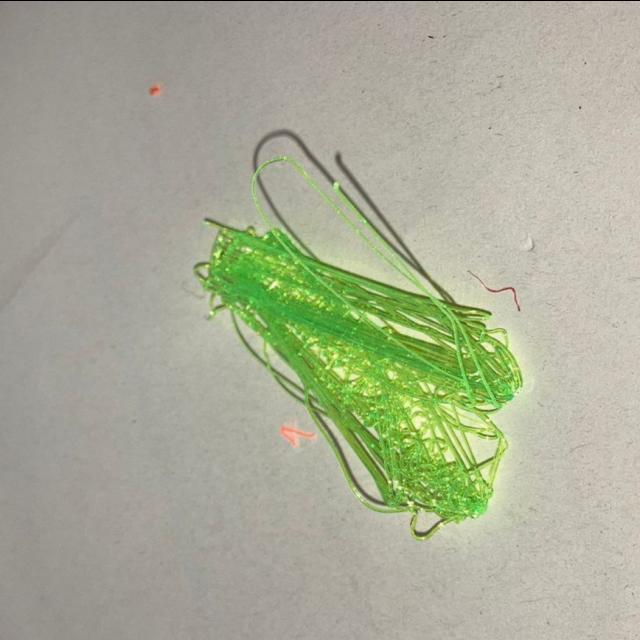Spaghetti: (184, 196, 531, 548)
